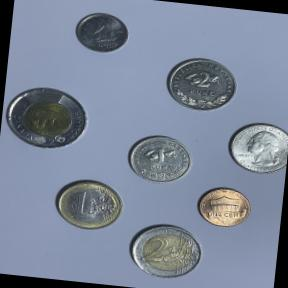1 Euro: (48, 172, 130, 238)
2 Euro: (123, 217, 208, 286)
Canda-10cent-: (68, 5, 137, 59)
Canda-2Dollar-: (0, 78, 96, 159)
Croatia-2Kune-: (160, 51, 244, 118)
US-1cent-: (192, 182, 256, 233)
US-25cent-: (222, 115, 288, 179)
